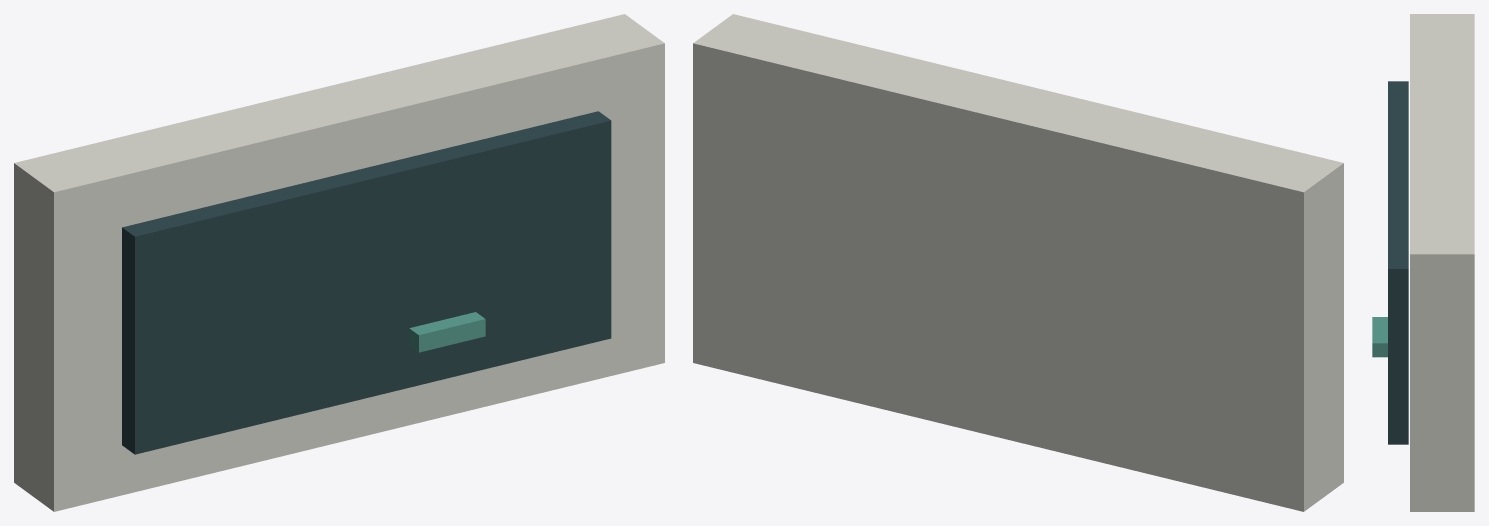
File: smart_control_panel.glb
3 views of the same model, side by side, from view 1: azimuth 30°, elevation 25°; view 2: azimuth 150°, elevation 25°; view 3: azimuth 270°, elevation 25° (orthographic). The views are drawn at different scales.
Visible parts, largest first — view 1: plate, display, status; view 2: plate; view 3: plate, display, status.
Boxes of the visible parts, bbox=[...] form: plate: bbox=[14, 14, 664, 511]; display: bbox=[122, 111, 611, 454]; status: bbox=[409, 312, 485, 352]; plate: bbox=[693, 14, 1343, 511]; plate: bbox=[1410, 14, 1474, 511]; display: bbox=[1388, 81, 1408, 444]; status: bbox=[1372, 317, 1387, 357].
Bounding box in the file's own units: 0.22 × 0.11 × 0.0395.
